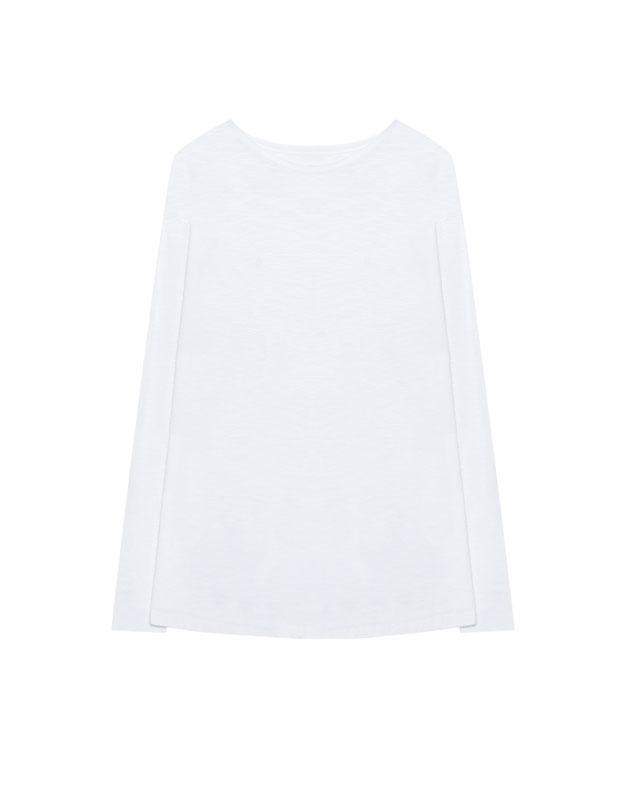teeshirt: (127, 117, 519, 686)
